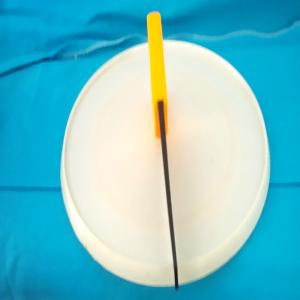serrote: (147, 11, 179, 291)
